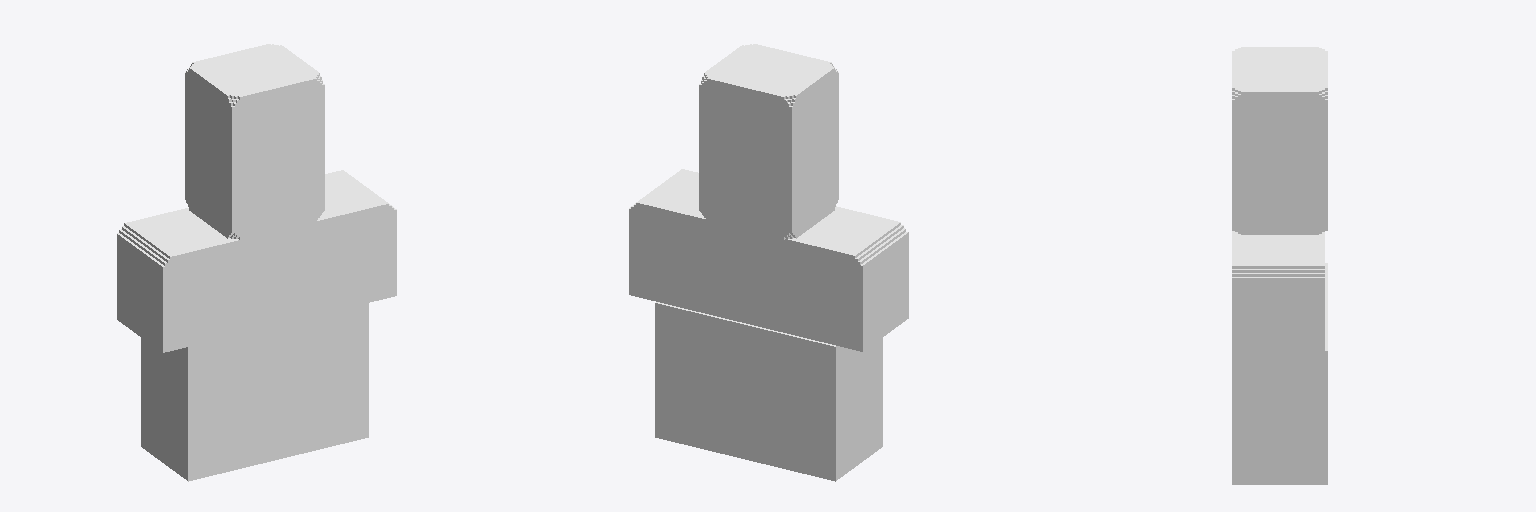
The model's file is Man-1.obj.
3 views of the same model, side by side, from view 1: azimuth 30°, elevation 25°; view 2: azimuth 150°, elevation 25°; view 3: azimuth 270°, elevation 25° (orthographic).
Parts seen in each view (by area): view 1: object 1; view 2: object 1; view 3: object 1.
Boxes of the visible parts, <box> form: object 1: <box>117,44,396,481</box>; object 1: <box>629,44,908,481</box>; object 1: <box>1232,47,1327,484</box>.
Size of the model in its own units: 9.1 by 13.8 by 3.2.